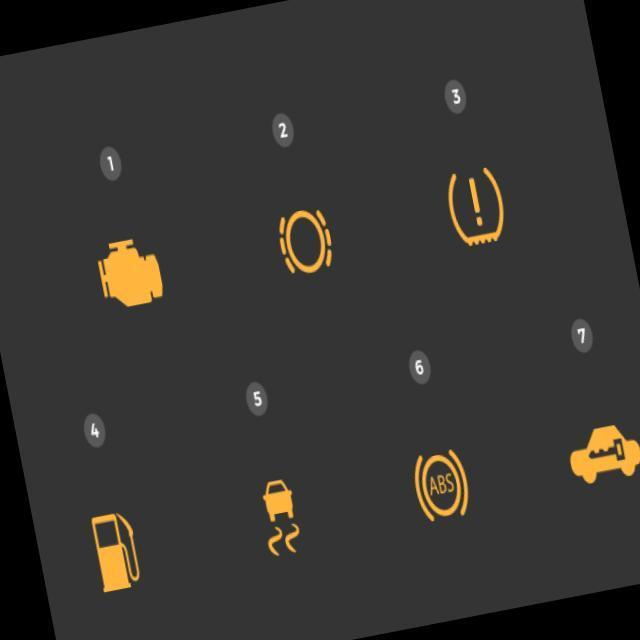Low fuel level: (88, 508, 142, 592)
